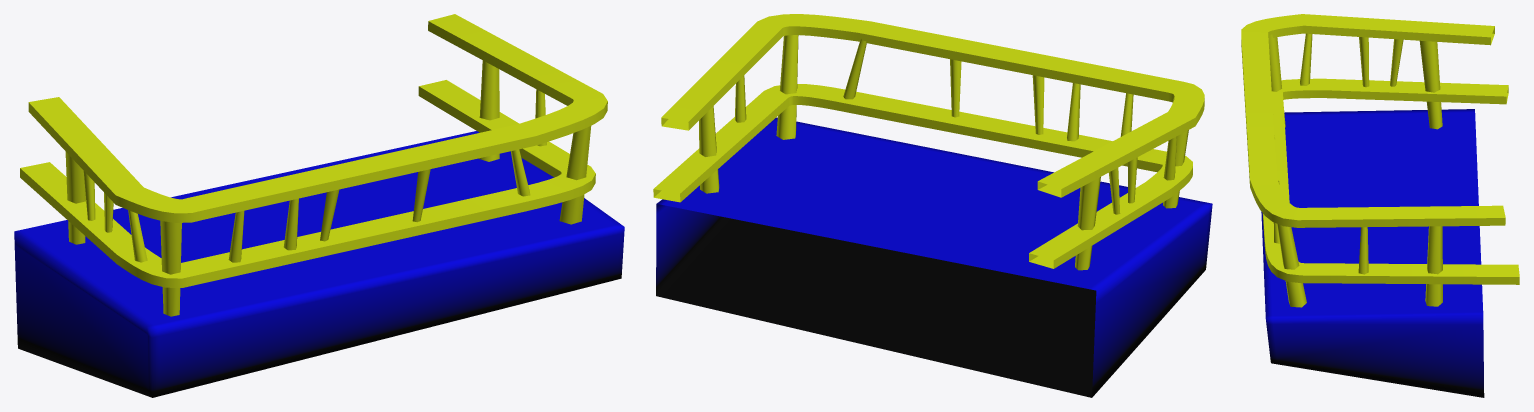
Rendered from V_addon_2.FBX.
The picture shows the model from 3 angles, left to right: view 1: azimuth 30°, elevation 25°; view 2: azimuth 150°, elevation 25°; view 3: azimuth 270°, elevation 25°; orthographic projection. The views are drawn at different scales.
Parts seen in each view (by area): view 1: Box095; view 2: Box095; view 3: Box095.
Part boxes in pixels (left/top/right/bottom): Box095: left=14, top=14, right=624, bottom=397; Box095: left=653, top=14, right=1212, bottom=397; Box095: left=1241, top=14, right=1519, bottom=397.
Size of the model in its own units: 665 by 304 by 402.
